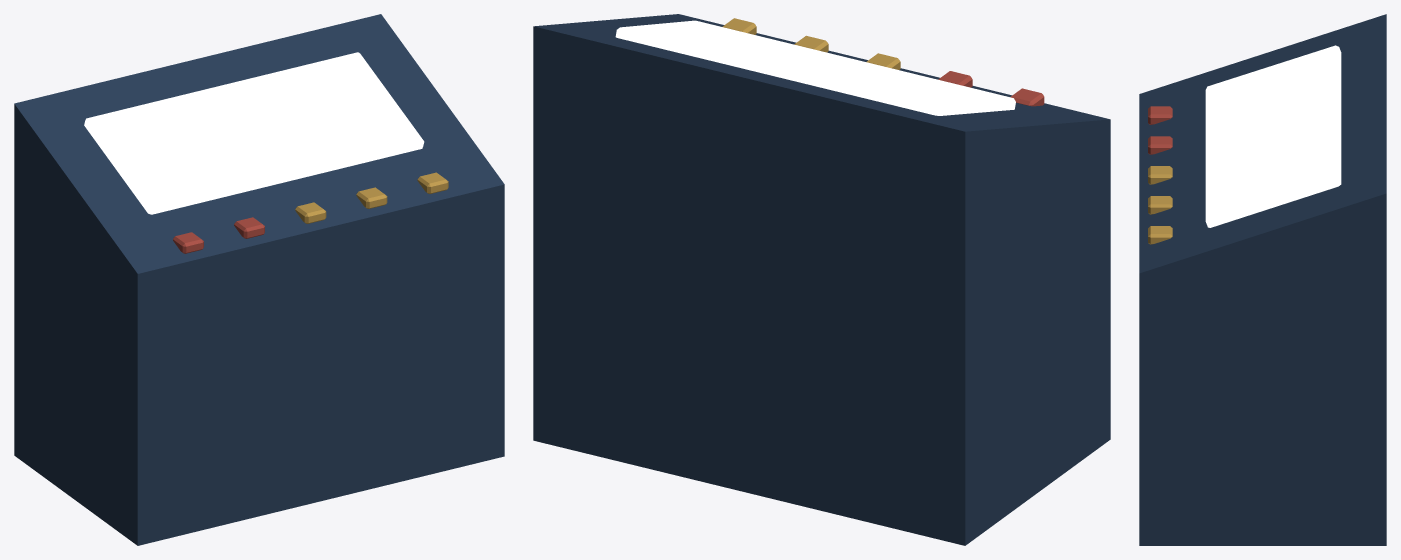
The model's file is props-console.lod0.glb.
3 renders of one model, left to right at view 1: azimuth 30°, elevation 25°; view 2: azimuth 150°, elevation 25°; view 3: azimuth 270°, elevation 25°, orthographic. The views are drawn at different scales.
Visible parts, largest first — view 1: props-console__body; view 2: props-console__body; view 3: props-console__body.
Boxes of the visible parts, x1,y1,x2,y2 form: props-console__body: [14, 14, 504, 545]; props-console__body: [533, 14, 1110, 545]; props-console__body: [1139, 14, 1386, 545].
Size of the model in its own units: 1.2 by 1.1 by 0.7.
